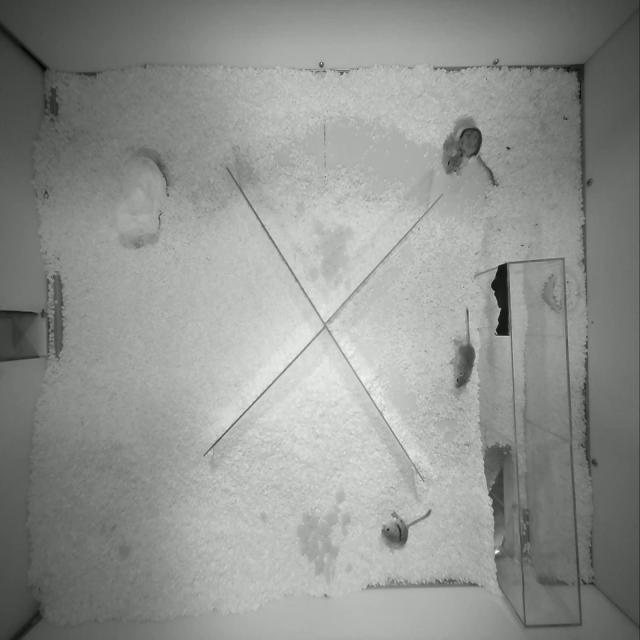adult_front: (446, 128, 496, 185)
pup_fluffy: (451, 308, 475, 388)
pup_h_stripe: (381, 510, 431, 547)
